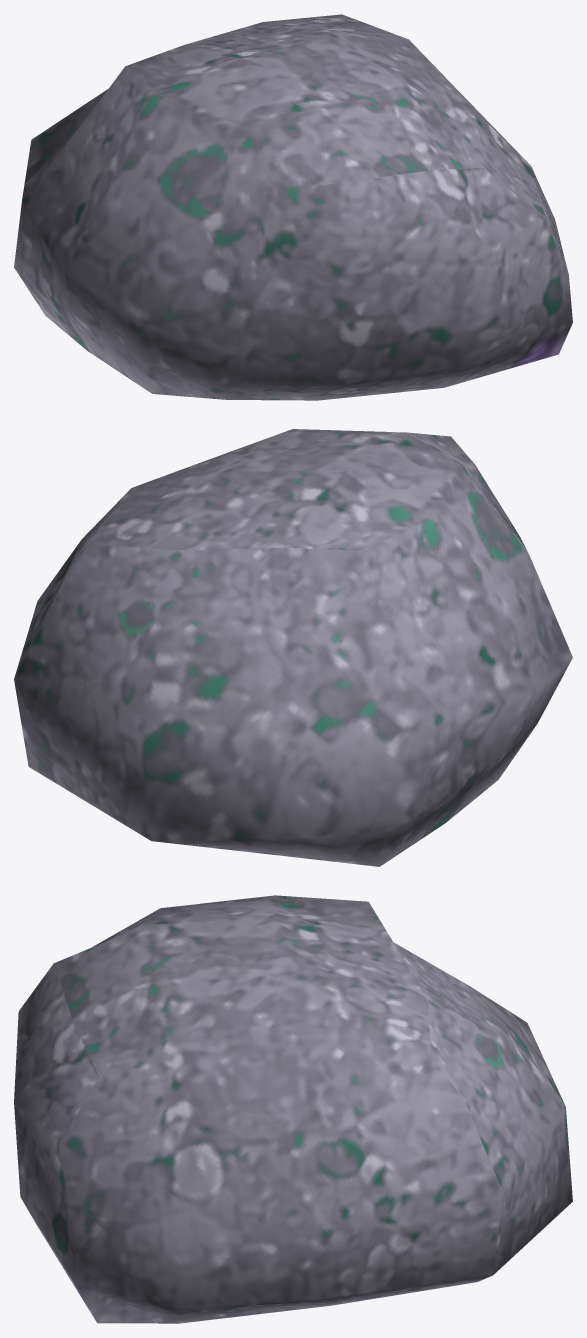
The model's file is rock_1_medium.fbx.
3 renders of one model, top to bottom at view 1: azimuth 30°, elevation 25°; view 2: azimuth 150°, elevation 25°; view 3: azimuth 270°, elevation 25°, orthographic. The views are drawn at different scales.
Parts seen in each view (by area): view 1: rock_1_medium; view 2: rock_1_medium; view 3: rock_1_medium.
Boxes of the visible parts, x1,y1,x2,y2 form: rock_1_medium: (14,14,572,400); rock_1_medium: (14,429,572,866); rock_1_medium: (14,895,572,1323).
Size of the model in its own units: 56.69 by 35.26 by 58.82.
